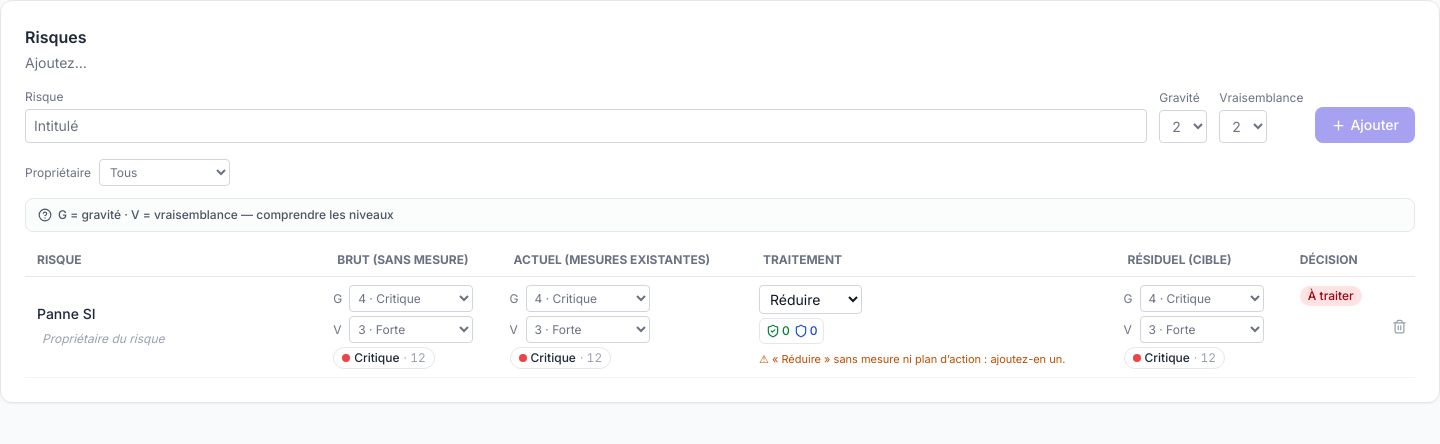
Test: RisquesDirects › cotation refusée par le serveur : message explicite
The image size is (1440, 444).
Expected: the text "Panne SI" is shown, left=37, top=304, right=313, bottom=350
Select "1 · Mineure" in the dropdown named "Résiduel (cible) — Gravité" at (1202, 298), box left=1140, top=285, right=1264, bottom=312
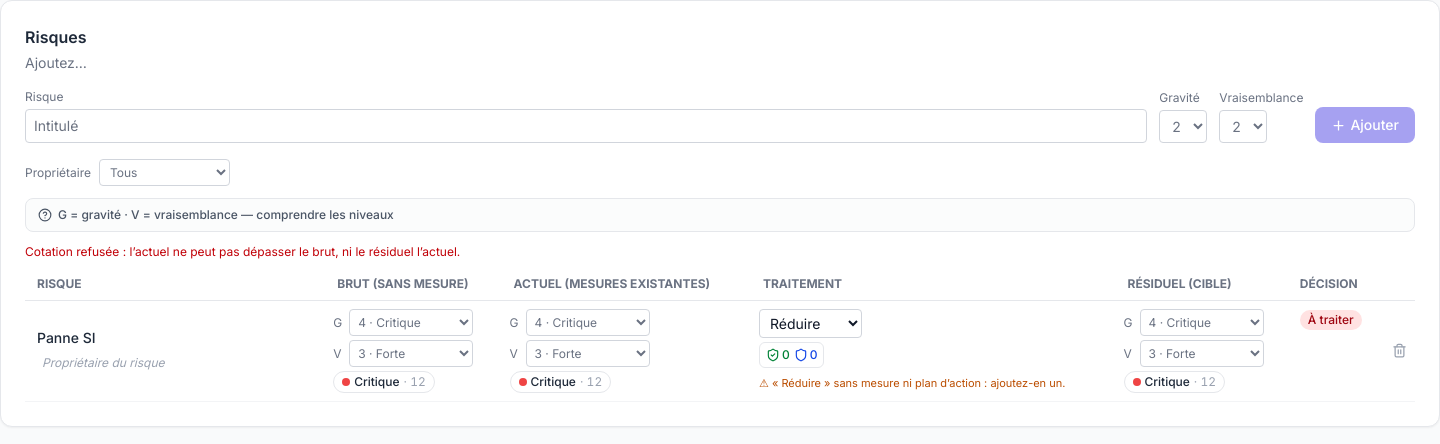
Expected: the 1st message shows "Cotation refusée", left=25, top=244, right=460, bottom=259
